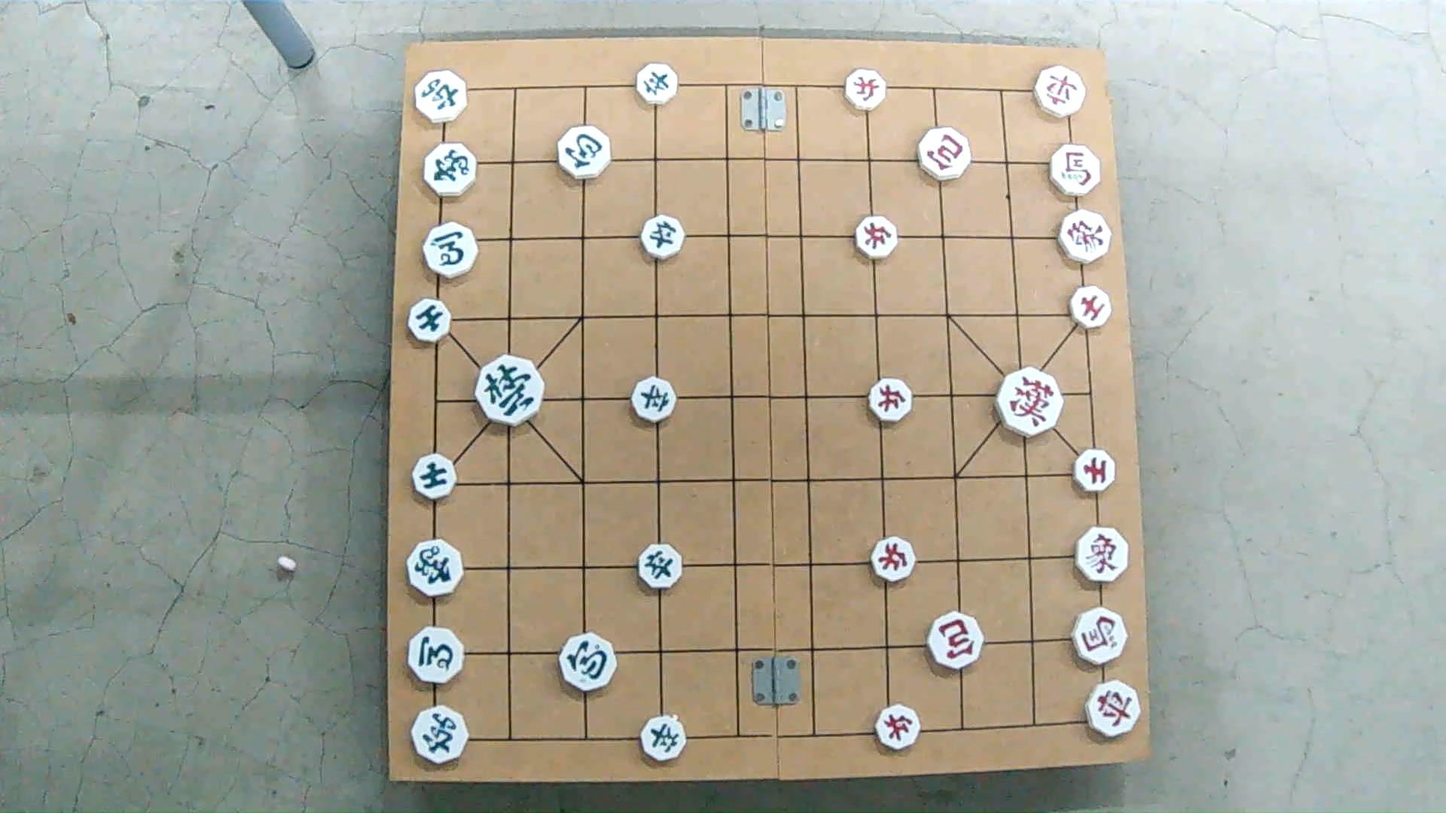cha_green: (408, 707, 473, 765), (416, 70, 471, 120)
cha_red: (1090, 680, 1142, 734), (1033, 62, 1084, 113)
jol_green: (637, 713, 689, 757), (630, 374, 676, 422), (639, 543, 685, 588), (639, 218, 685, 260), (633, 65, 679, 105)
jol_red: (871, 537, 917, 580), (866, 379, 913, 421), (874, 706, 919, 749), (854, 218, 898, 258), (844, 72, 886, 111)
ma_green: (408, 626, 465, 685), (423, 224, 478, 276)
ma_red: (1072, 606, 1128, 666), (1045, 145, 1105, 193)
po_green: (561, 632, 618, 691), (556, 127, 609, 178)
po_red: (928, 617, 984, 671), (919, 127, 973, 179)
sa_green: (409, 452, 456, 496), (410, 300, 453, 343)
sa_red: (1072, 450, 1117, 490), (1069, 288, 1111, 326)
sang_green: (404, 540, 470, 596), (420, 146, 475, 196)
sang_red: (1056, 208, 1113, 263), (1077, 531, 1133, 584)
wang_green: (476, 359, 543, 425)
wang_red: (996, 370, 1066, 434)
